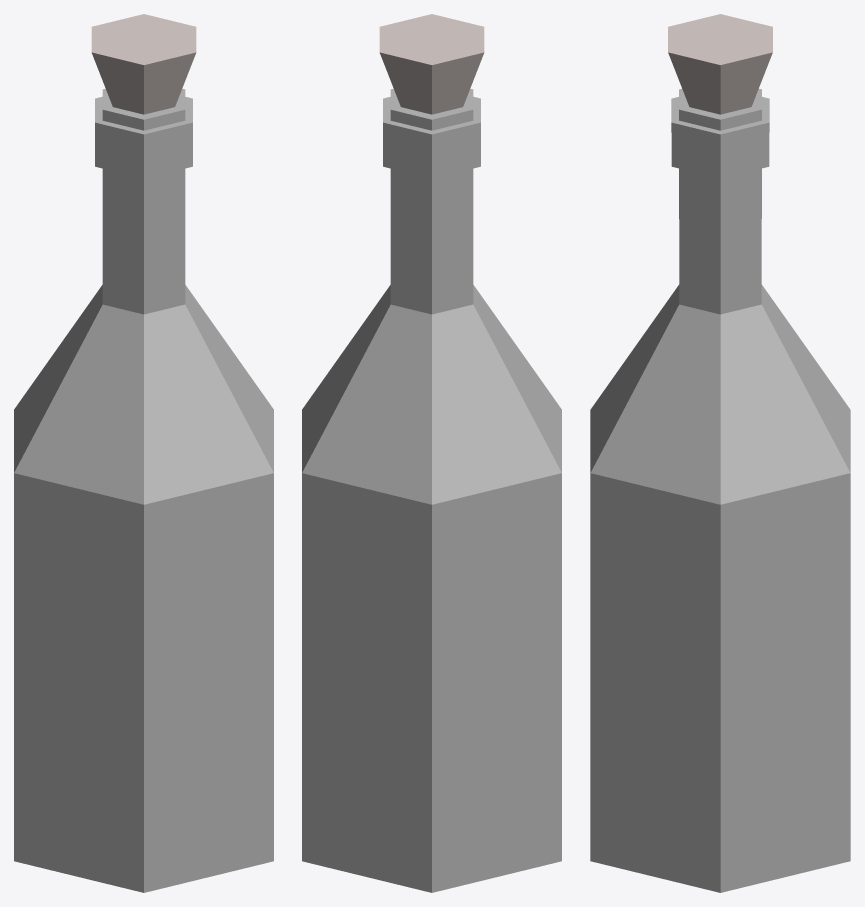
File: Ship_013.glb
The picture shows the model from 3 angles, left to right: view 1: azimuth 30°, elevation 25°; view 2: azimuth 150°, elevation 25°; view 3: azimuth 270°, elevation 25°; orthographic projection.
Visible parts, largest first — view 1: Ship_013; view 2: Ship_013; view 3: Ship_013.
Part boxes in pixels (left/top/right/bottom): Ship_013: left=14, top=14, right=273, bottom=892; Ship_013: left=302, top=14, right=561, bottom=892; Ship_013: left=590, top=14, right=850, bottom=892.
Bounding box in the file's own units: 0.1172 × 0.3402 × 0.1015.
Materials: 1 (1 with a texture image).
